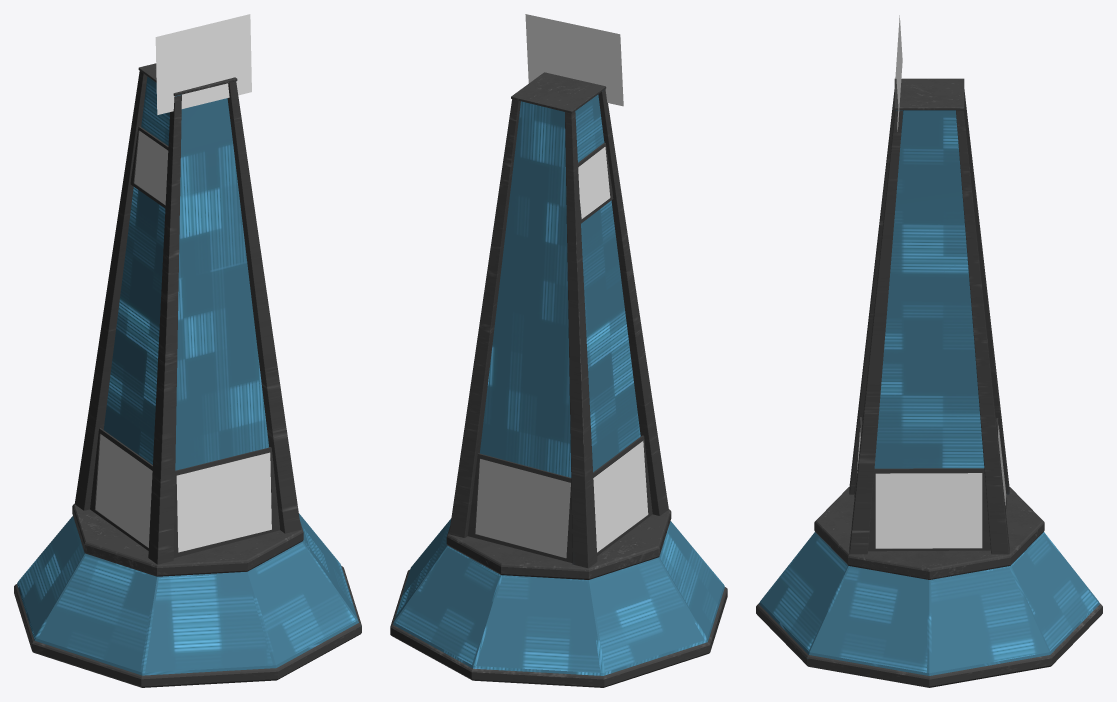
File: BLD1310005.fbx
3 views of the same model, side by side, from view 1: azimuth 30°, elevation 25°; view 2: azimuth 150°, elevation 25°; view 3: azimuth 270°, elevation 25° (orthographic). The views are drawn at different scales.
Parts seen in each view (by area): view 1: smBLD1310005; view 2: smBLD1310005; view 3: smBLD1310005.
Part boxes in pixels (bbox=[...]): smBLD1310005: bbox=[14, 14, 361, 687]; smBLD1310005: bbox=[390, 14, 727, 687]; smBLD1310005: bbox=[756, 15, 1102, 687].
Bounding box in the file's own units: 1553 × 2863 × 1553.
Materials: 6 (1 with a texture image).
